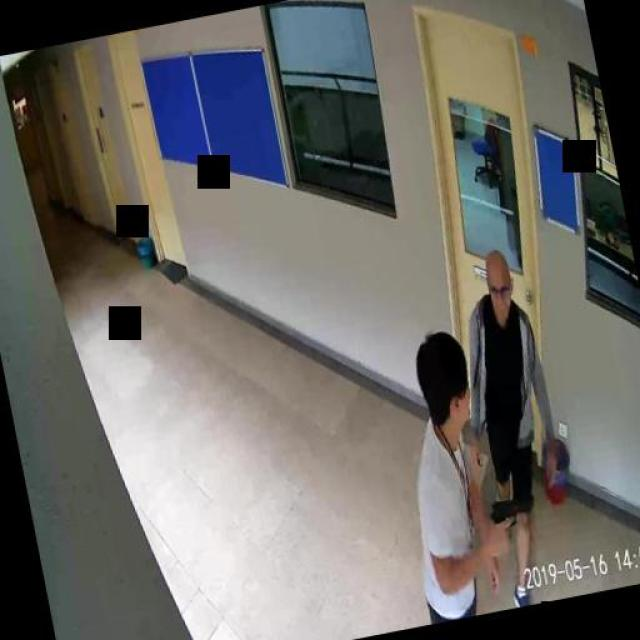gun: (488, 492, 540, 548)
